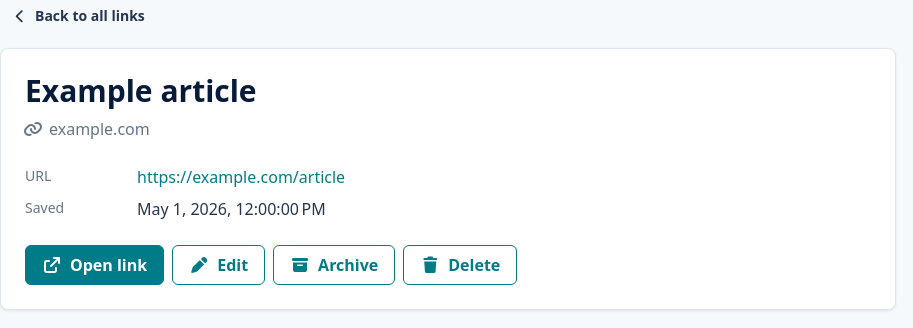
Test: LinkDetailsComponent archive toggle › archives an active link and flips the button to Restore
Click the button "Archive" at (334, 265), box [273,245,395,285]
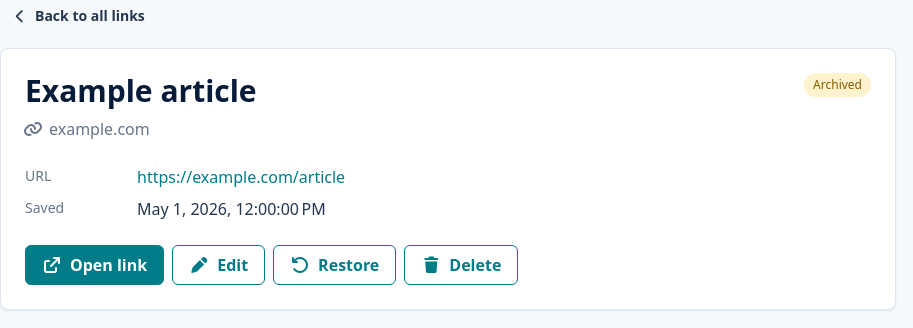
expect the text "Archived" is shown: met, box [804,73,871,97]
